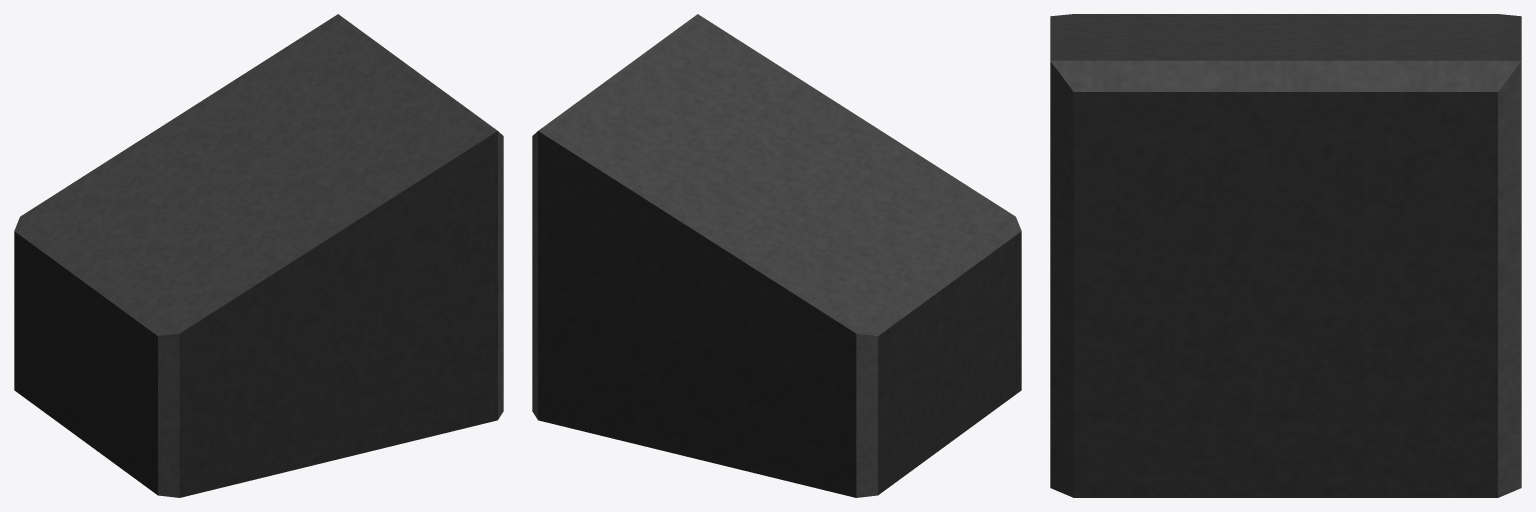
The model's file is station-register.glb.
3 renders of one model, left to right at view 1: azimuth 30°, elevation 25°; view 2: azimuth 150°, elevation 25°; view 3: azimuth 270°, elevation 25°, orthographic. The views are drawn at different scales.
Visible parts, largest first — view 1: Station-registerBody; view 2: Station-registerBody; view 3: Station-registerBody.
Boxes of the visible parts, <box> form: Station-registerBody: <box>14,14,503,497</box>; Station-registerBody: <box>532,14,1021,497</box>; Station-registerBody: <box>1050,14,1521,497</box>.
Size of the model in its own units: 0.5 by 0.4 by 0.4.
Materials: 1 (1 with a texture image).
